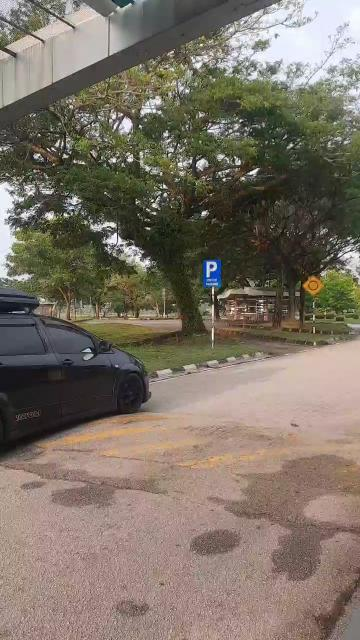car: (2, 290, 153, 448)
